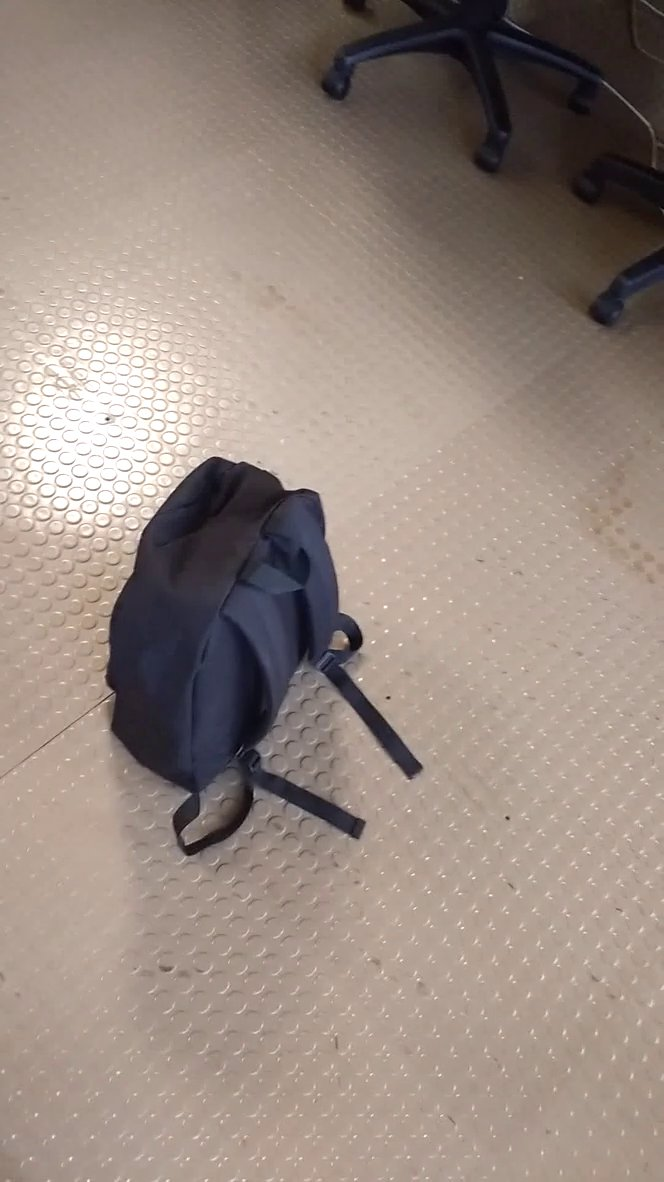bag: (95, 446, 432, 867)
